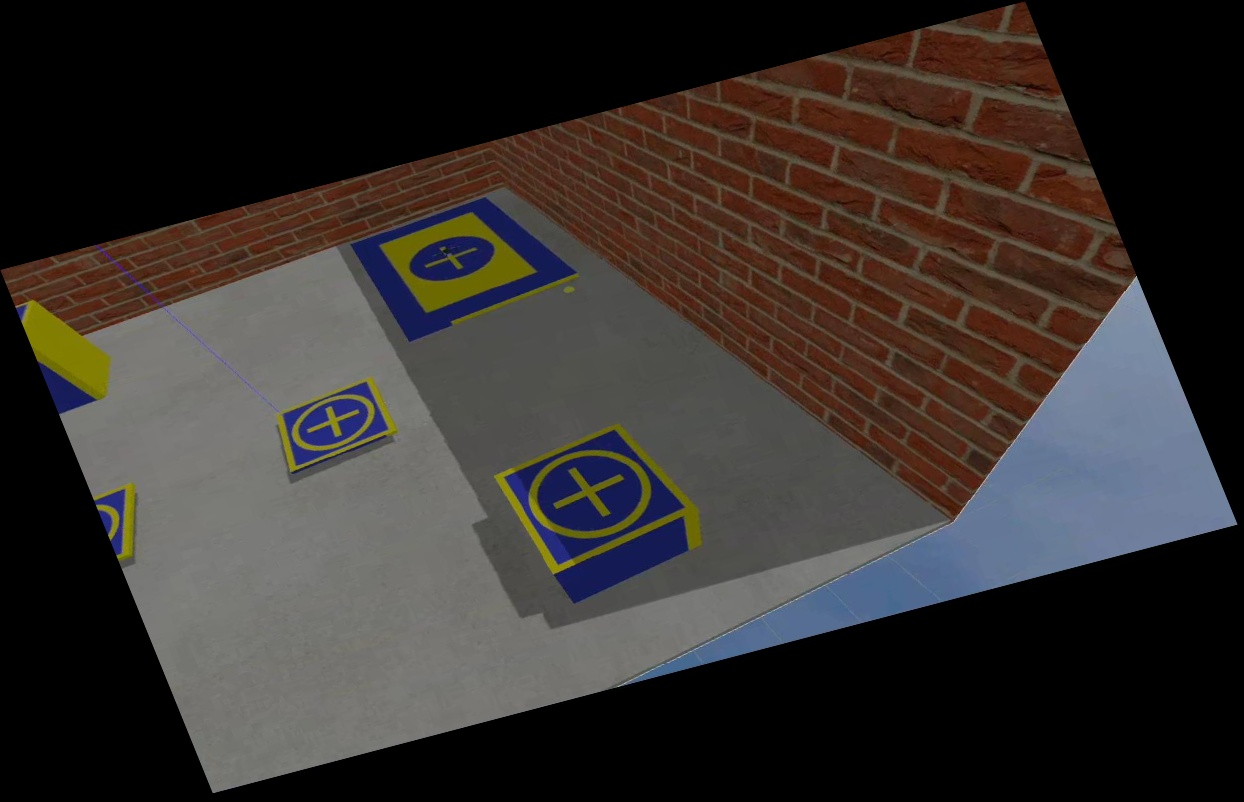large_base: (342, 178, 588, 348)
small_base: (486, 411, 711, 579), (263, 375, 404, 475), (91, 483, 162, 567)
